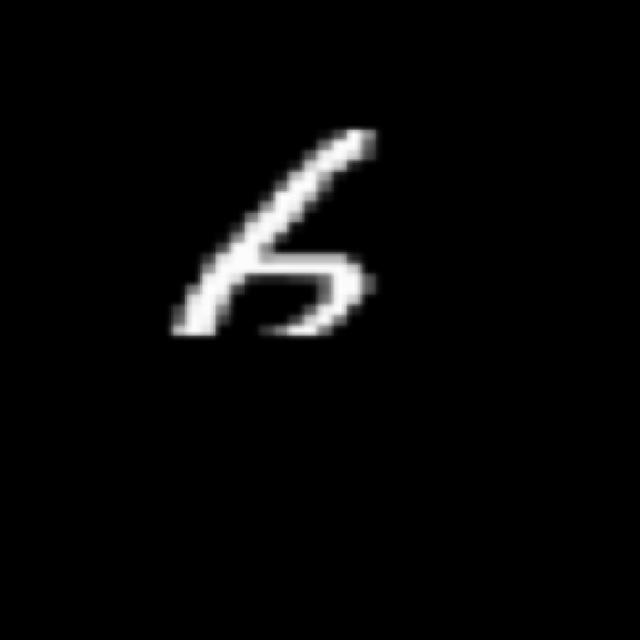six -6-: (170, 123, 393, 356)
